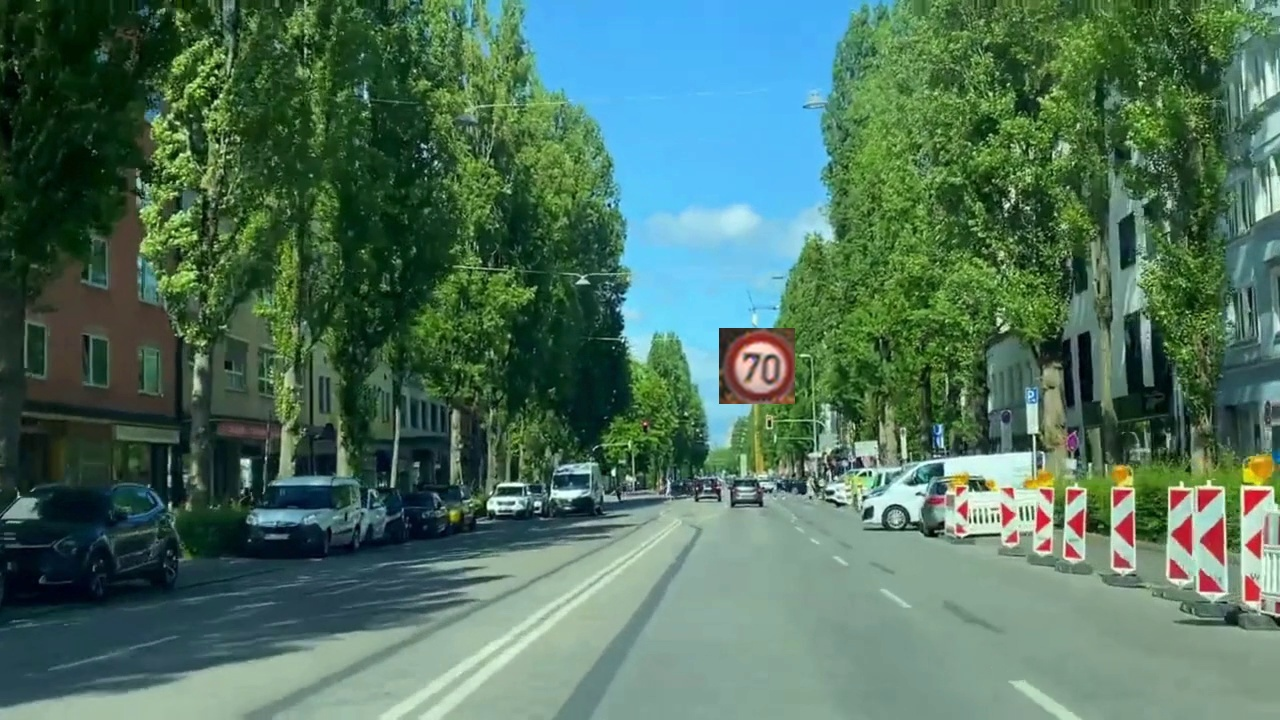Speed 70: (719, 328, 795, 404)
